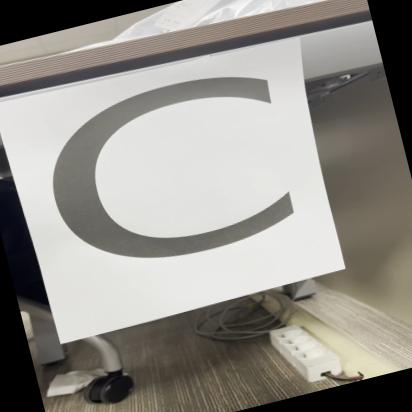seat: (0, 31, 345, 346)
